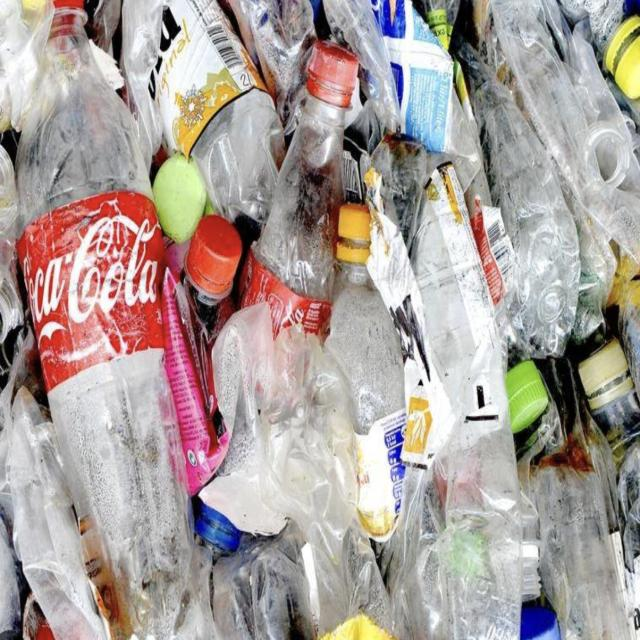recyclable: (3, 0, 230, 627), (431, 336, 542, 640), (258, 36, 372, 289)
